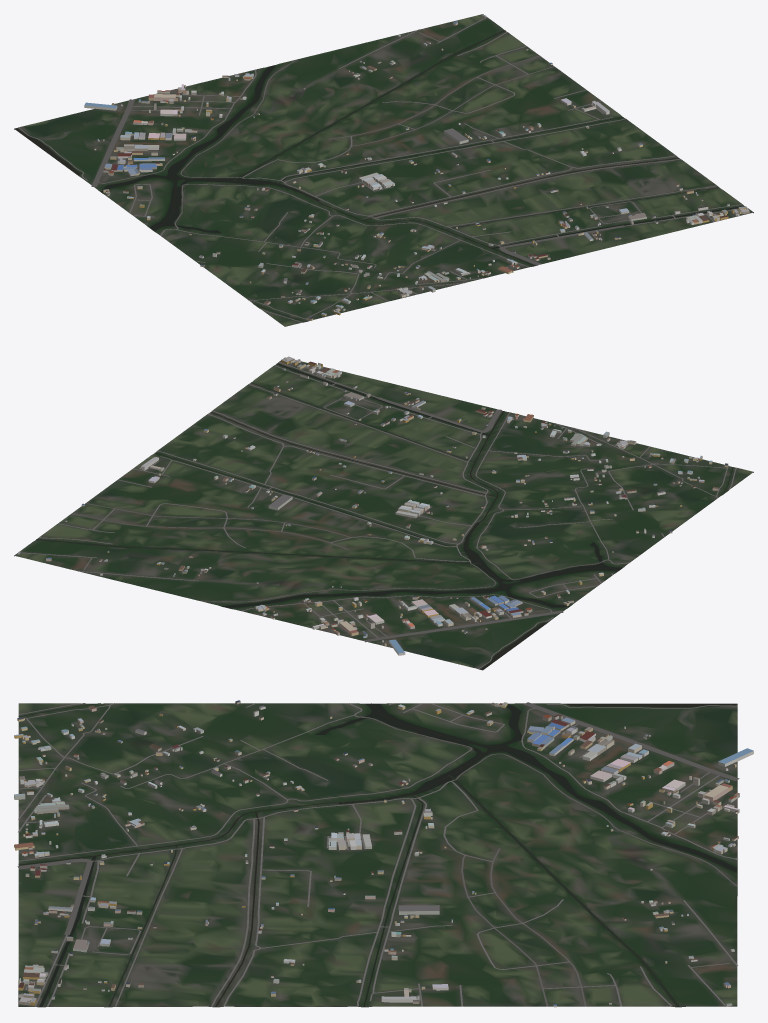
3 renders of one model, top to bottom at view 1: azimuth 30°, elevation 25°; view 2: azimuth 150°, elevation 25°; view 3: azimuth 270°, elevation 25°, orthographic. The views are drawn at different scales.
Visible parts, largest first — view 1: ground, buildings, roads, water; view 2: ground, roads, buildings, water; view 3: ground, buildings, roads, water.
Boxes of the visible parts, x1,y1,x2,y2 form: ground: [14, 14, 753, 326]; buildings: [84, 15, 749, 320]; roads: [18, 17, 742, 322]; water: [15, 30, 744, 321]; ground: [14, 357, 753, 670]; roads: [20, 362, 736, 668]; buildings: [17, 356, 728, 655]; water: [36, 363, 733, 669]; ground: [18, 703, 737, 1007]; buildings: [14, 700, 753, 1007]; roads: [17, 702, 739, 1006]; water: [18, 703, 736, 1006].
Size of the model in its own units: 1406 by 18.05 by 1442.
